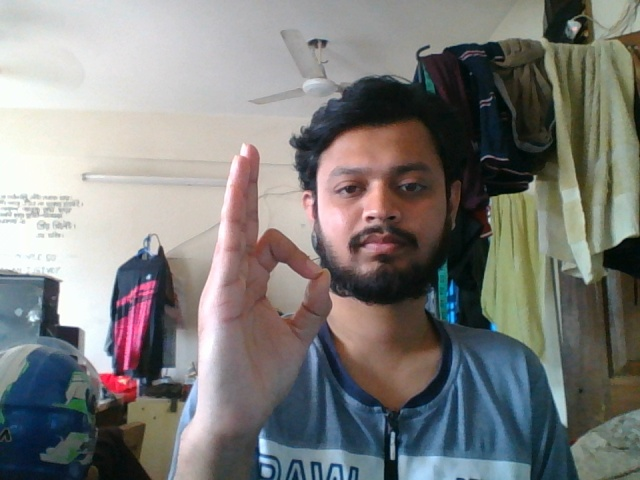ca: (181, 138, 337, 439)
